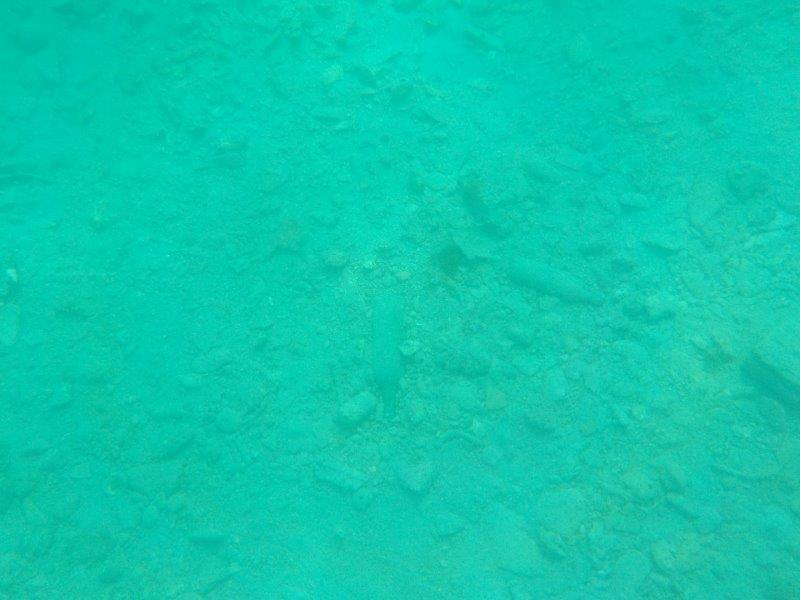bottle: (368, 280, 417, 426), (504, 251, 610, 315)
